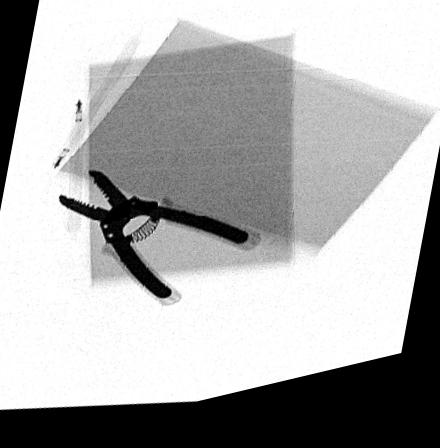Pliers: (55, 172, 251, 305)
